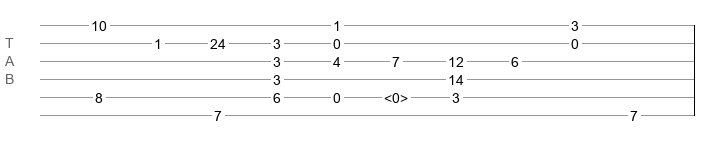0: (333, 36, 341, 46), (333, 90, 341, 100), (571, 36, 579, 46)
1: (154, 36, 162, 46), (333, 18, 341, 28)
10: (91, 18, 107, 28)
12: (448, 54, 464, 64)
14: (448, 72, 464, 82)
24: (210, 36, 226, 46)
3: (273, 72, 281, 82), (273, 54, 281, 64), (273, 36, 281, 46), (452, 90, 460, 100), (571, 18, 579, 28)
4: (333, 54, 341, 64)
6: (273, 90, 281, 100), (511, 54, 519, 64)
7: (214, 108, 222, 118), (392, 54, 400, 64), (630, 108, 638, 118)
8: (95, 90, 103, 100)
harmonic: (384, 90, 408, 100)
